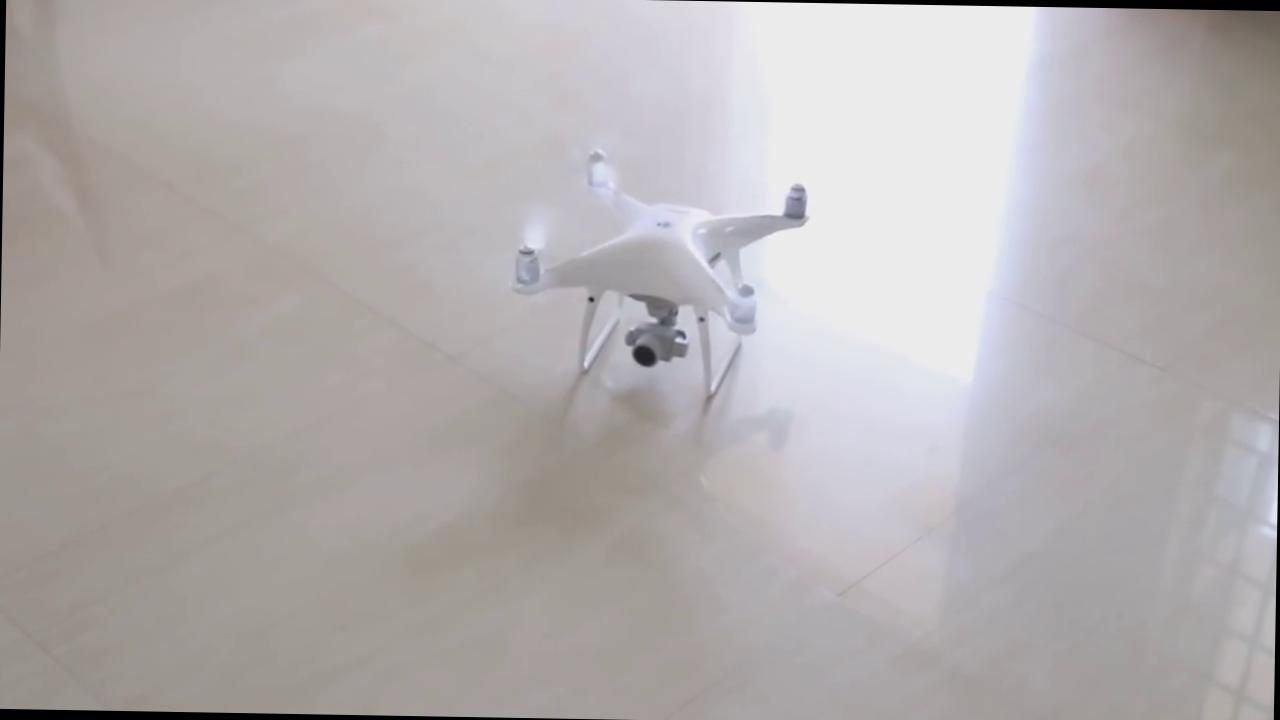drone: (490, 142, 824, 354)
